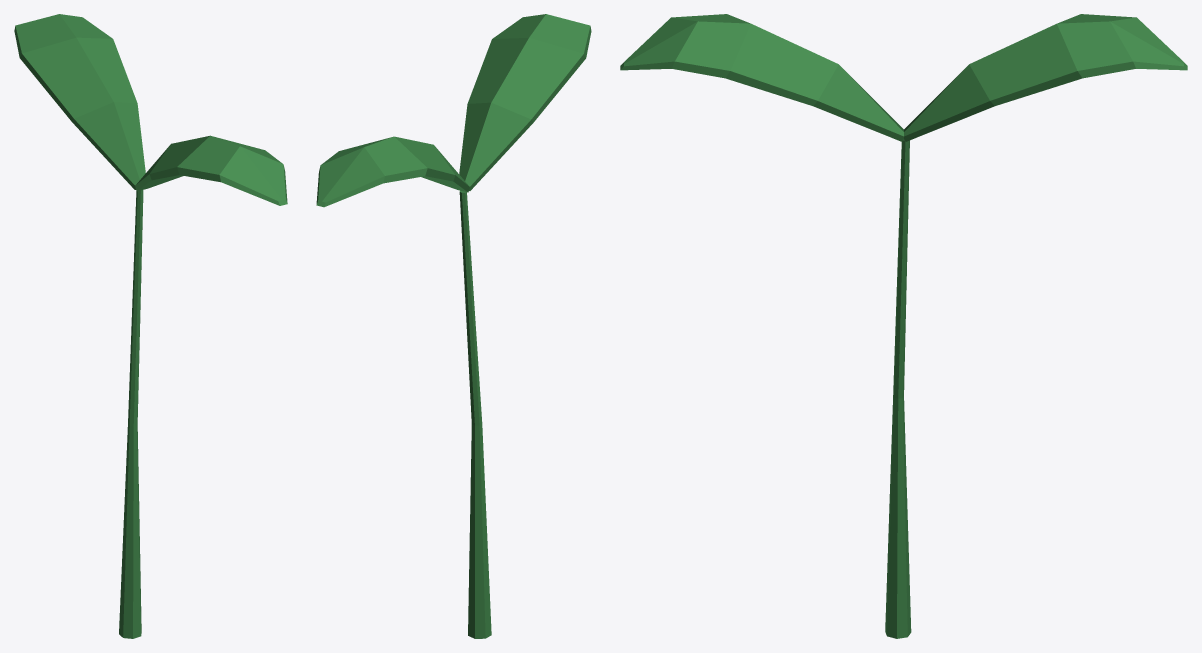
File: teen.fbx
The picture shows the model from 3 angles, left to right: view 1: azimuth 30°, elevation 25°; view 2: azimuth 150°, elevation 25°; view 3: azimuth 270°, elevation 25°; orthographic projection. The views are drawn at different scales.
Parts seen in each view (by area): view 1: teen; view 2: teen; view 3: teen.
Boxes of the visible parts, bbox=[...] form: teen: bbox=[14, 14, 287, 638]; teen: bbox=[316, 14, 591, 638]; teen: bbox=[620, 14, 1187, 638].
Bounding box in the file's own units: 5.55 × 32.27 × 26.62.
